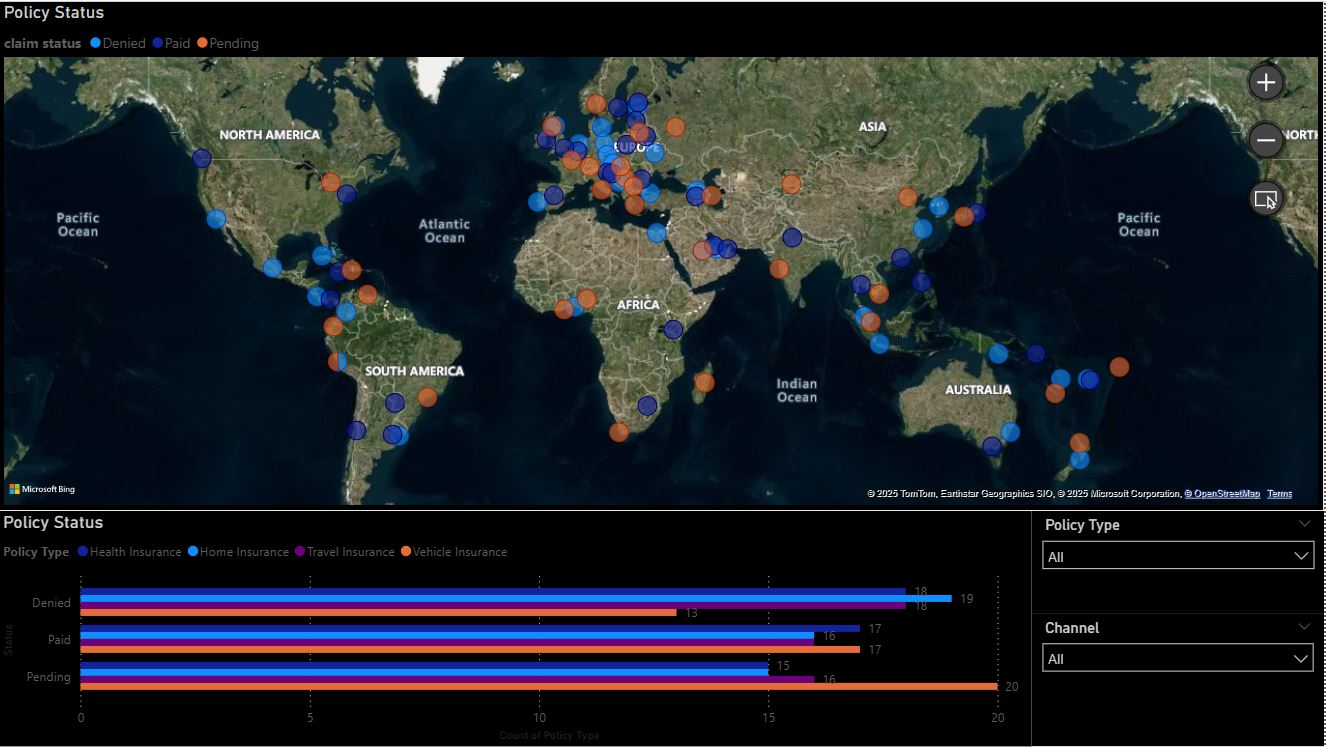

What the dashboard file says about the page in this screenshot:
{"tool":"powerbi","page":{"name":"Page 2","canvas":[1280,720],"ordinal":1},"visuals":[{"type":"map","title":"Policy Status","fields":{"Category":["Assured amount by policy.Geographic Location"],"Series":["Assured amount by policy.Status"]},"box":[0,0,1280,492.2],"z":0},{"type":"clusteredBarChart","title":"Policy Status","fields":{"Category":["Assured amount by policy.Status"],"Series":["Assured amount by policy.Policy Type"],"Y":["CountNonNull(Assured amount by policy.Policy Type)"]},"box":[0,492.2,997.4,227.4],"z":1000},{"type":"slicer","fields":{"Values":["Assured amount by policy.Channel"]},"box":[997.7,591.2,282.3,127.9],"z":2000},{"type":"slicer","fields":{"Values":["Assured amount by policy.Policy Type1"]},"box":[997.4,492.2,282.6,99.1],"z":3000}]}

Visuals, with their boxes in screenshot pixels (x1, y1, x2, y2), scaled from the page's 1280x720 canvas onto the 1326x747 screenshot:
"Policy Status" map: bbox(0, 0, 1325, 511)
"Policy Status" clusteredBarChart: bbox(0, 511, 1033, 746)
slicer - Assured amount by policy.Channel: bbox(1034, 613, 1325, 746)
slicer - Assured amount by policy.Policy Type1: bbox(1033, 511, 1325, 613)
